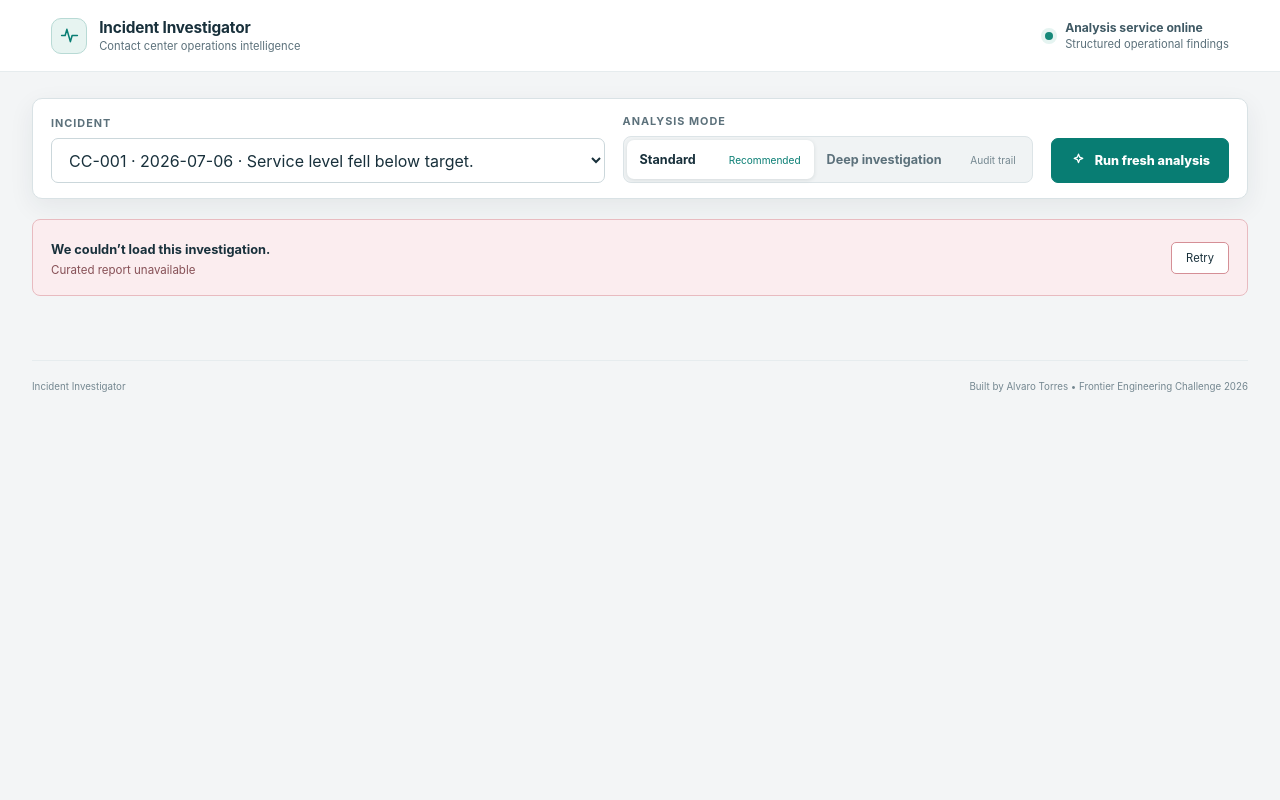
Scenario: shows an API error and retries the report
This screenshot has width=1280, height=800.
Check: the message shows "Curated report unavailable", box [51, 263, 195, 277]
Step 1. Click the button "Retry" → click(1200, 258), box [1171, 242, 1229, 274]
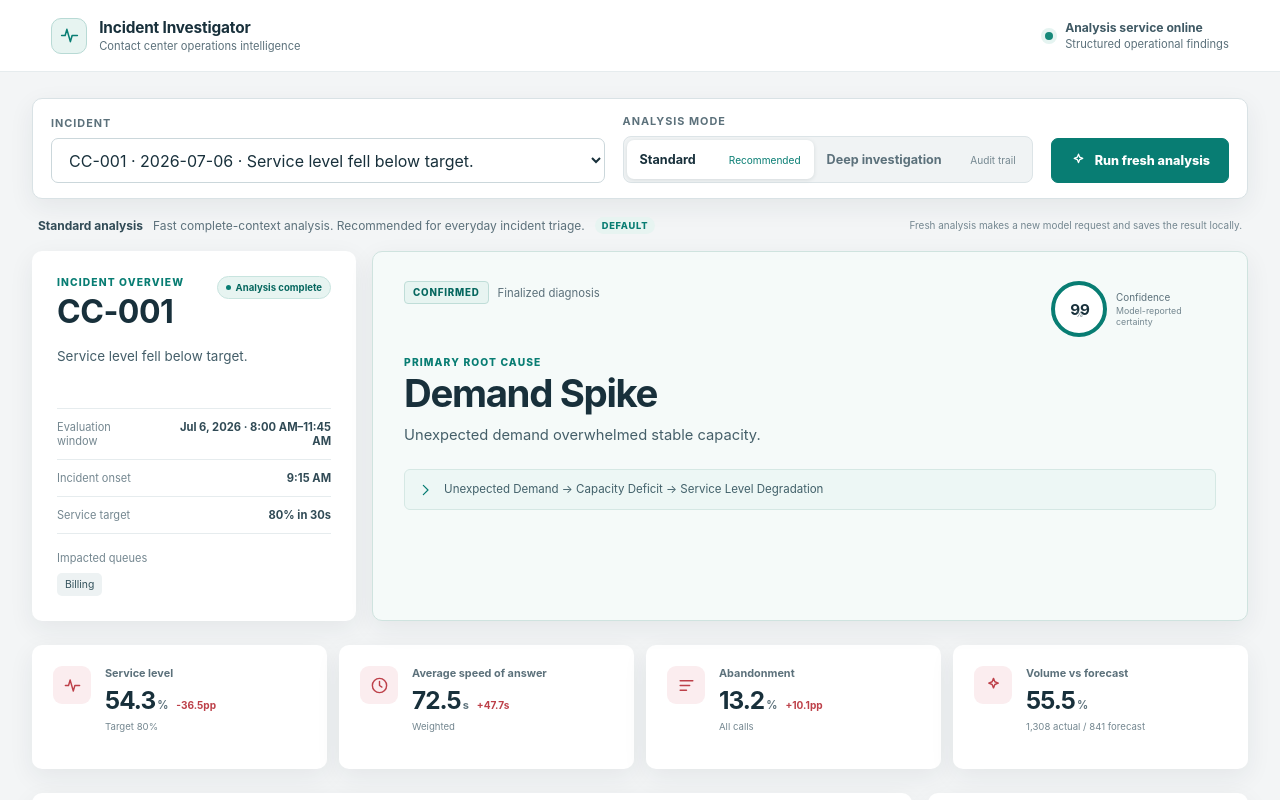
Check: the heading "Demand Spike" is shown, box [404, 370, 657, 416]
